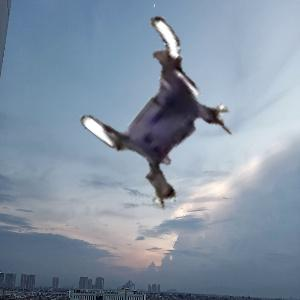drone: (77, 30, 247, 200)
